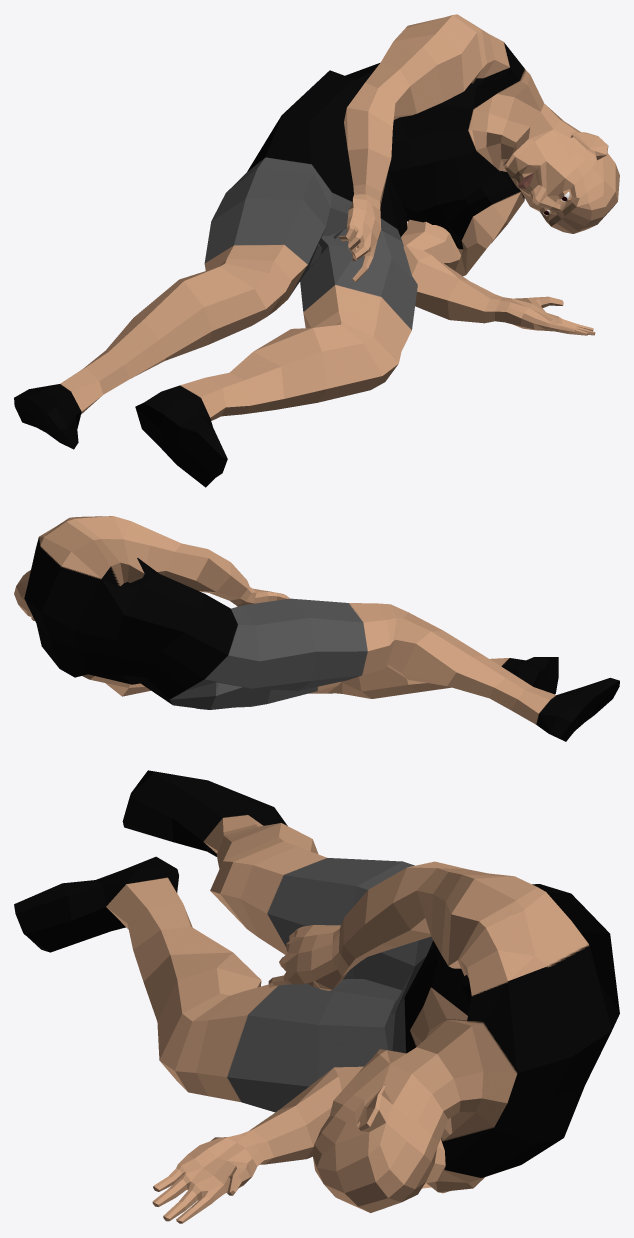
The model's file is PlayerDead(90).obj.
3 views of the same model, one above another, from view 1: azimuth 30°, elevation 25°; view 2: azimuth 150°, elevation 25°; view 3: azimuth 270°, elevation 25° (orthographic). The views are drawn at different scales.
Visible parts, largest first — view 1: Plane002; view 2: Plane002; view 3: Plane002.
Boxes of the visible parts, x1=… form: Plane002: x1=14, y1=14, x2=619, y2=487; Plane002: x1=14, y1=516, x2=619, y2=741; Plane002: x1=14, y1=770, x2=619, y2=1223.
Size of the model in its own units: 1574 by 554 by 924.
